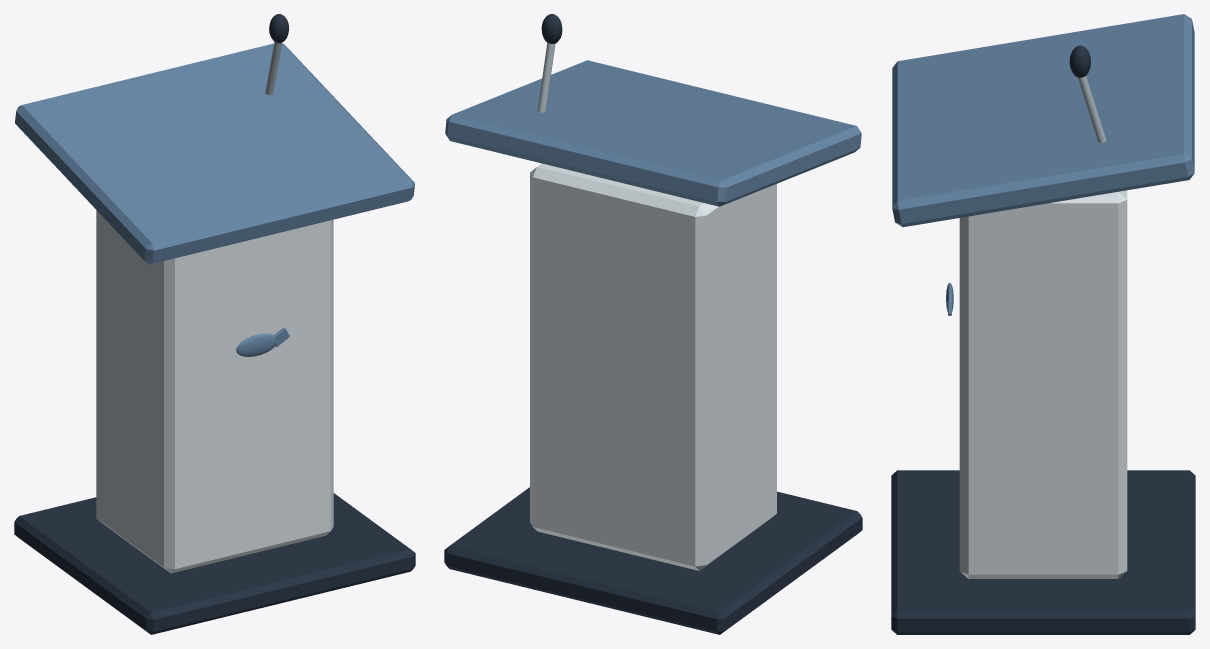
Rendered from lounge_05.glb.
The picture shows the model from 3 angles, left to right: view 1: azimuth 30°, elevation 25°; view 2: azimuth 150°, elevation 25°; view 3: azimuth 270°, elevation 25°; orthographic projection. The views are drawn at different scales.
Visible parts, largest first — view 1: LecternColumn, ReadingTop, LecternFoot, WhaleBody; view 2: LecternColumn, ReadingTop, LecternFoot, MicrophoneStem; view 3: LecternColumn, ReadingTop, LecternFoot, MicrophoneStem, Microphone.
Boxes of the visible parts, x1,y1,x2,y2 form: LecternColumn: [96, 210, 333, 573]; ReadingTop: [15, 43, 414, 264]; LecternFoot: [14, 493, 415, 634]; WhaleBody: [236, 333, 275, 356]; LecternColumn: [530, 163, 776, 570]; ReadingTop: [445, 60, 861, 206]; LecternFoot: [444, 487, 862, 634]; MicrophoneStem: [537, 43, 555, 112]; LecternColumn: [959, 190, 1127, 578]; ReadingTop: [892, 14, 1194, 227]; LecternFoot: [891, 470, 1195, 634]; MicrophoneStem: [1077, 76, 1106, 142]; Microphone: [1069, 45, 1090, 77].
Size of the model in its own units: 0.7 by 1.26 by 0.62.
